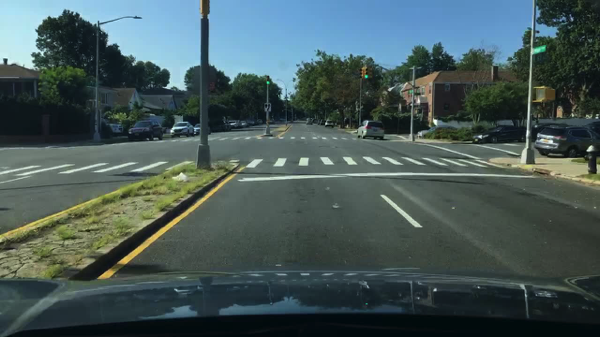car: (533, 125, 599, 158), (471, 125, 526, 144), (128, 120, 163, 141), (531, 123, 565, 142), (357, 120, 385, 140), (170, 122, 195, 138), (582, 120, 599, 135), (106, 124, 124, 137), (194, 124, 211, 136), (213, 120, 226, 132), (232, 120, 242, 129), (325, 120, 334, 127), (241, 121, 250, 128), (227, 121, 232, 132), (250, 121, 258, 126), (269, 119, 276, 124), (307, 120, 313, 125), (259, 120, 264, 125), (320, 119, 324, 125), (317, 118, 320, 125), (306, 118, 311, 121)
traffic light: (536, 87, 554, 101), (359, 66, 364, 79), (364, 68, 368, 80), (370, 68, 374, 79), (266, 75, 270, 85)
traffic sign: (416, 125, 455, 139), (532, 45, 547, 55), (264, 103, 271, 111)
